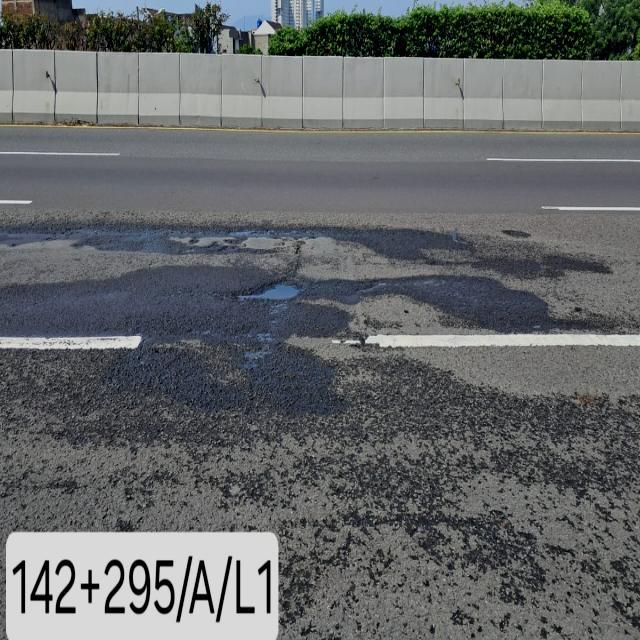Buraco: (207, 270, 312, 306), (499, 228, 534, 240)
